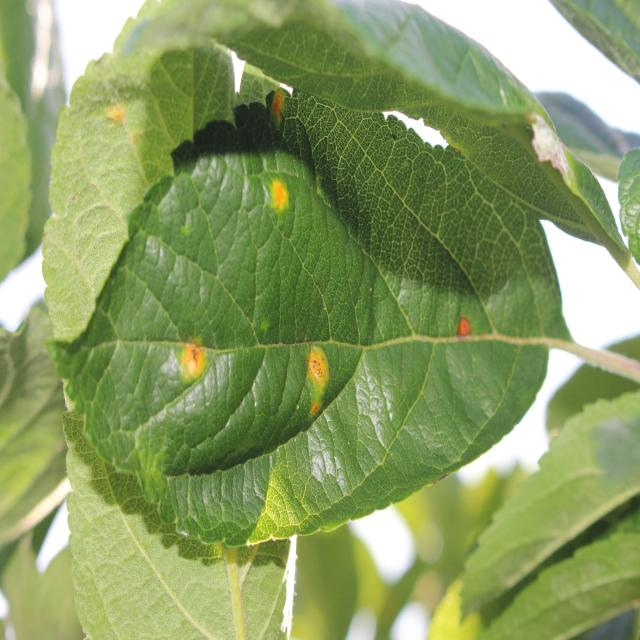rust: (44, 88, 577, 550)
